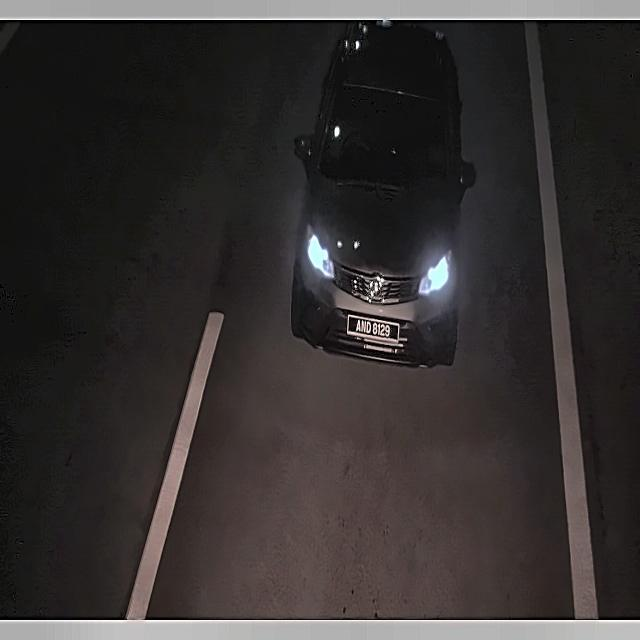car: (342, 305, 407, 356)
